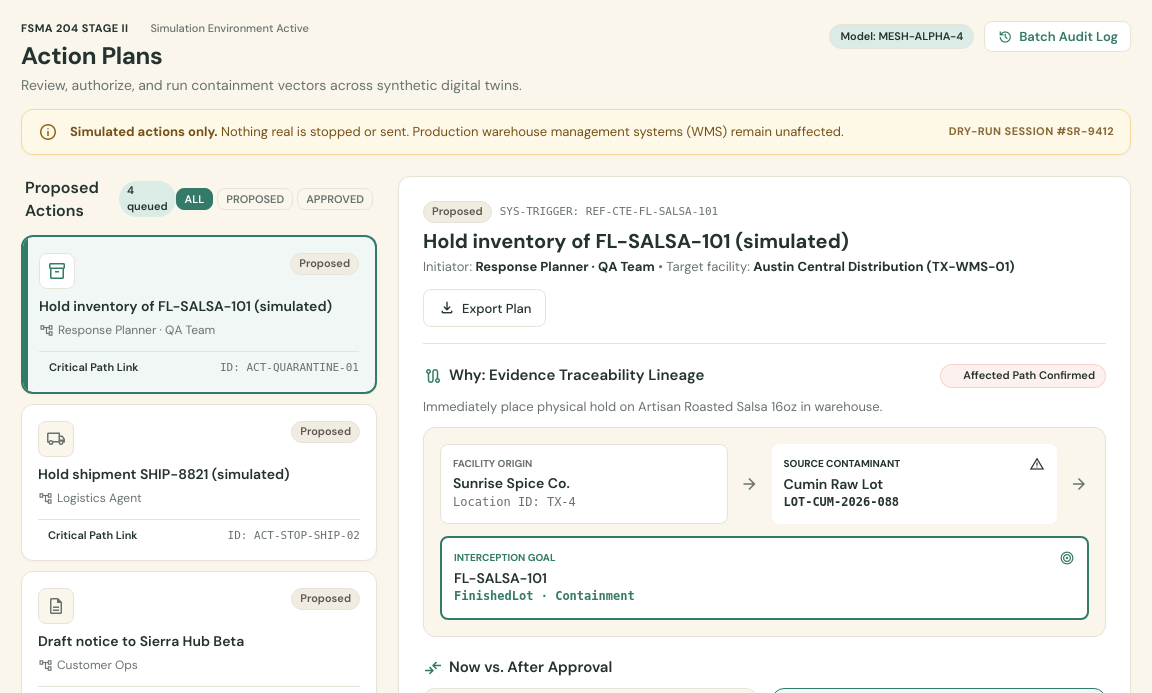
Test case: ActionPlansWorkspace Component › selects an action candidate card and displays its evidence lineage
expect the heading "Hold shipment SHIP-8821 (simulated)" is shown: met, box [38, 465, 290, 483]
// Click second action card via data-testid
Click the element with test id "action-card-ACT-STOP-SHIP-02" at (199,482), box [21, 404, 377, 561]
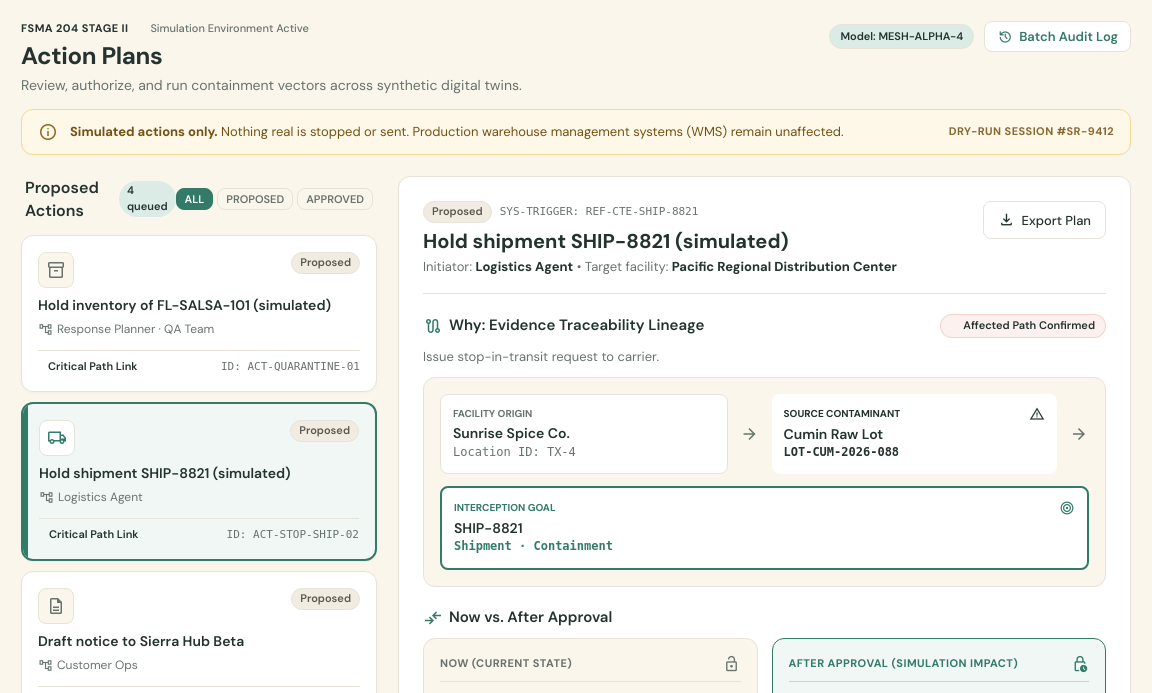
expect the text "Facility Origin" is shown: met, box [453, 407, 532, 420]
expect the text "SYS-TRIGGER: REF-CTE-SHIP-8821" is shown: met, box [500, 204, 698, 220]
expect the text "Pacific Regional Distribution Center" is shown: met, box [672, 258, 897, 275]
